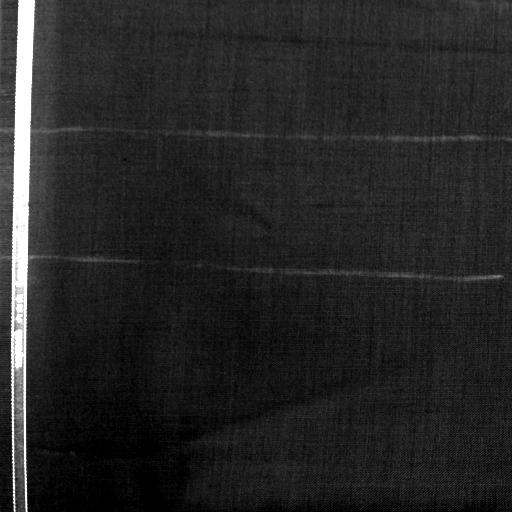fabric_broken_pick: (296, 191, 412, 221)
